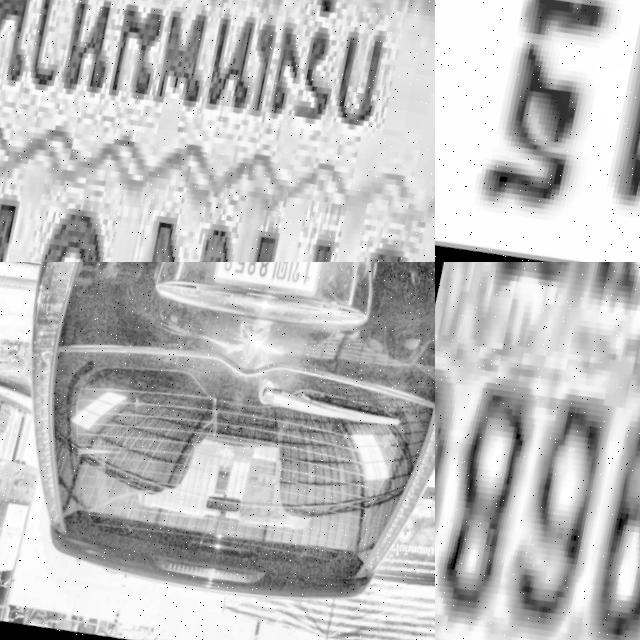license-plate: (0, 0, 435, 262), (435, 262, 640, 640), (435, 0, 640, 262), (206, 262, 331, 310)
